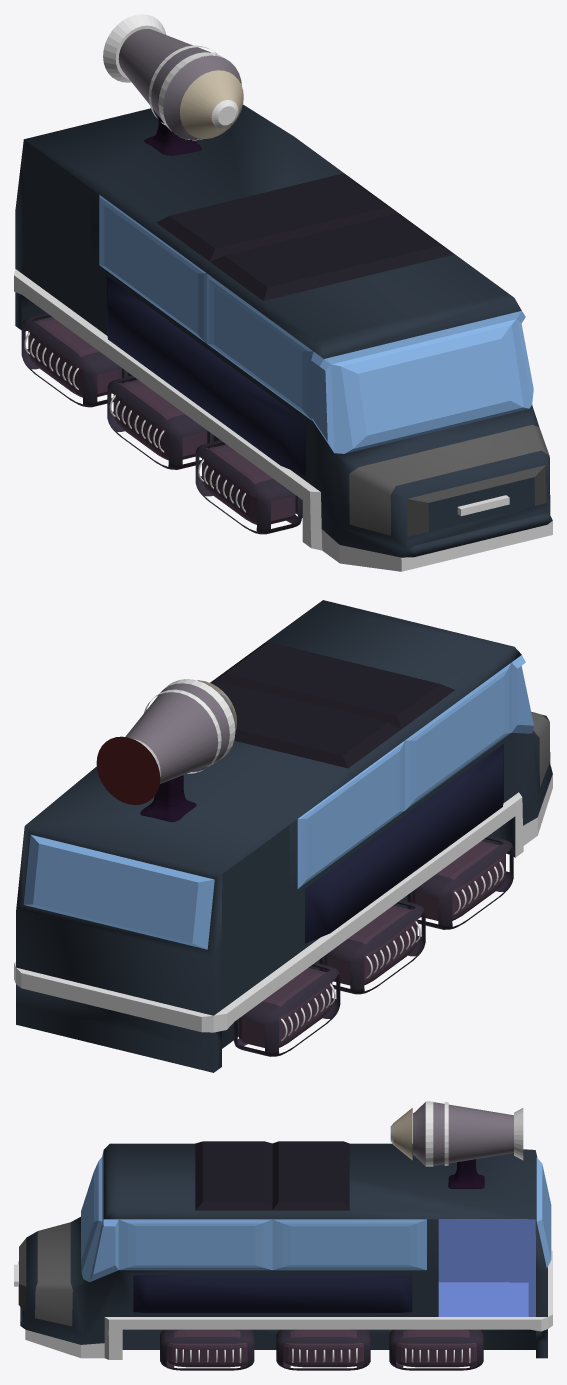
File: 1busfbx.fbx
The picture shows the model from 3 angles, top to bottom: view 1: azimuth 30°, elevation 25°; view 2: azimuth 150°, elevation 25°; view 3: azimuth 270°, elevation 25°; orthographic projection. The views are drawn at different scales.
Visible parts, largest first — view 1: base, top plane, glass.001_Cube.002, glass1, side planes, squares, squary frame, decor front, neon, glass_Cube.004, turbine base, neon front (+6 smaller); view 2: base, top plane, glass1, back window, side planes, neon, squares, squary frame, turbine base, turbine back1, glass frame1, turbine stem (+5 smaller); view 3: base, window, top plane, side planes, base .002, squares, neon, turbine base, window frame, squary frame, decor front, glass_Cube.004 (+10 smaller).
Boxes of the visible parts, left/top/right/bottom form: base: left=15, top=104, right=552, bottom=557; top plane: left=156, top=173, right=454, bottom=300; glass.001_Cube.002: left=341, top=325, right=523, bottom=448; glass1: left=100, top=198, right=308, bottom=415; side planes: left=106, top=276, right=305, bottom=475; squares: left=28, top=317, right=295, bottom=524; squary frame: left=21, top=313, right=301, bottom=534; decor front: left=349, top=425, right=549, bottom=535; neon: left=14, top=269, right=322, bottom=550; glass_Cube.004: left=311, top=311, right=533, bottom=453; turbine base: left=118, top=29, right=241, bottom=139; neon front: left=321, top=521, right=552, bottom=571; base: left=16, top=600, right=552, bottom=1072; top plane: left=210, top=642, right=454, bottom=768; glass1: left=300, top=668, right=508, bottom=886; back window: left=23, top=835, right=214, bottom=949; side planes: left=305, top=743, right=503, bottom=943; neon: left=14, top=792, right=523, bottom=1032; squares: left=239, top=841, right=505, bottom=1047; squary frame: left=233, top=835, right=513, bottom=1056; turbine base: left=125, top=679, right=235, bottom=783; turbine back1: left=96, top=736, right=160, bottom=804; glass frame1: left=297, top=662, right=511, bottom=888; turbine stem: left=140, top=775, right=196, bottom=822; base: left=18, top=1143, right=547, bottom=1358; window: left=128, top=1223, right=416, bottom=1267; top plane: left=195, top=1141, right=349, bottom=1210; side planes: left=133, top=1275, right=412, bottom=1312; base .002: left=438, top=1219, right=535, bottom=1316; squares: left=166, top=1329, right=476, bottom=1367; neon: left=104, top=1250, right=552, bottom=1359; turbine base: left=413, top=1102, right=513, bottom=1165; window frame: left=118, top=1219, right=426, bottom=1270; squary frame: left=160, top=1329, right=483, bottom=1370; decor front: left=35, top=1222, right=72, bottom=1326; glass_Cube.004: left=81, top=1151, right=118, bottom=1282.
Bounding box in the file's own units: 648 × 748 × 1615.
